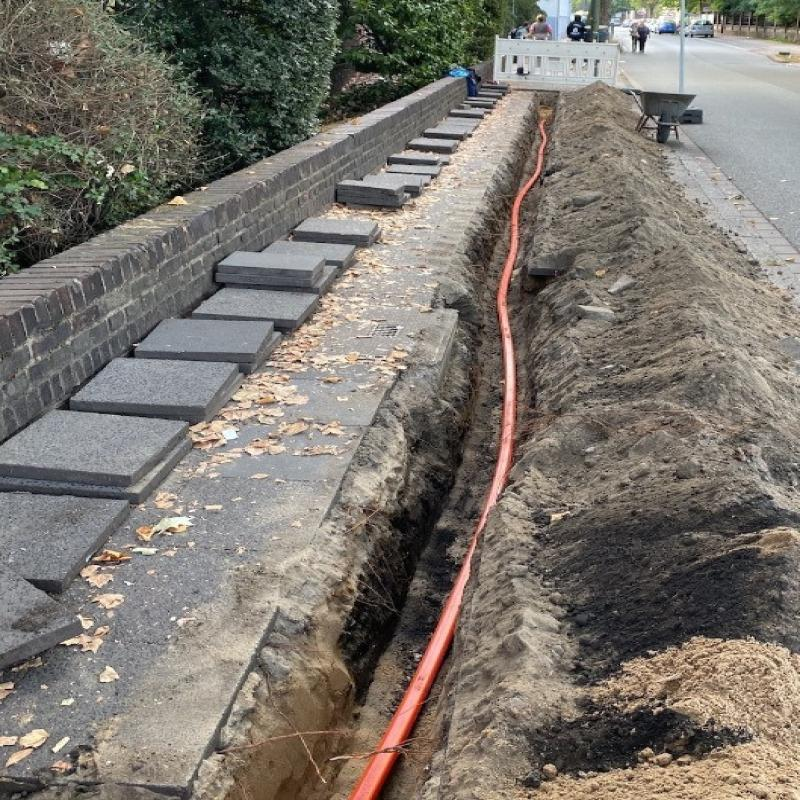Orang-Speednetrohrchen: (354, 175, 536, 798)
